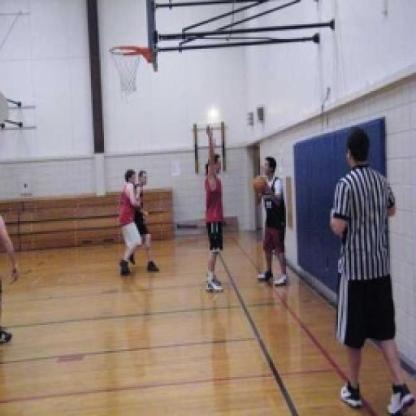basketball: (252, 175, 267, 197)
